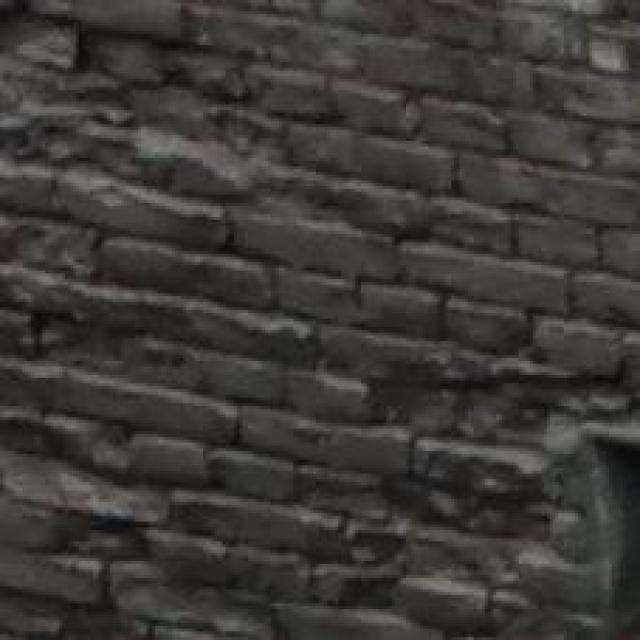Crack: (201, 361, 640, 640), (0, 0, 323, 209)
